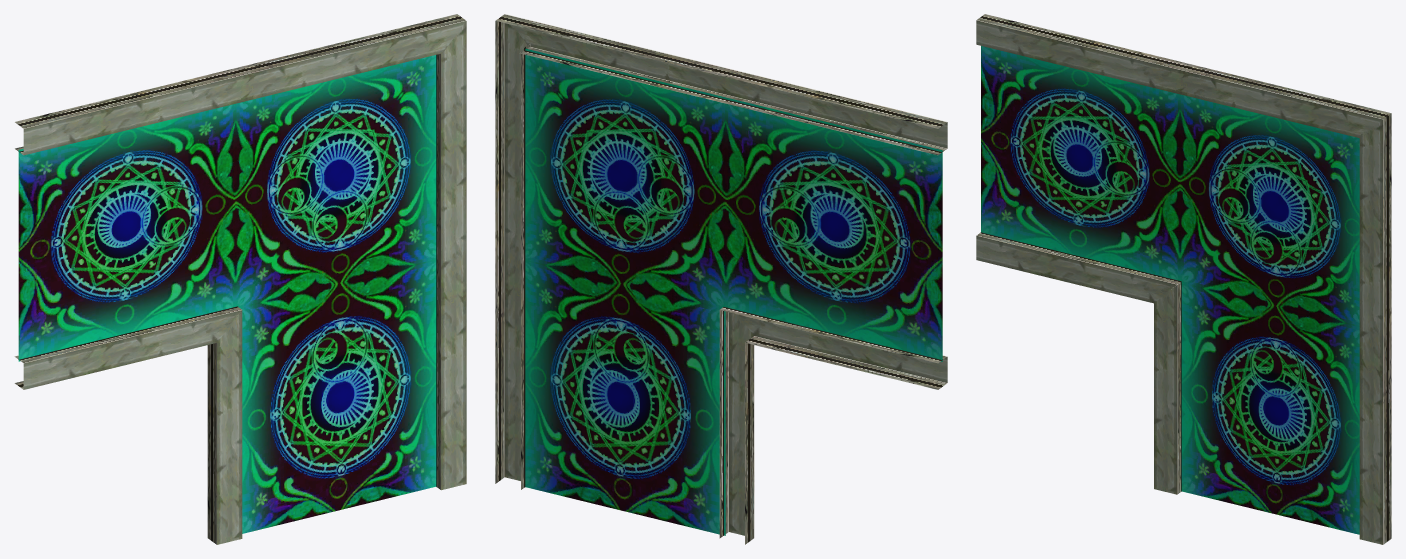
The model's file is juqing_fuben_342_qiao_02.obj.
The picture shows the model from 3 angles, left to right: view 1: azimuth 30°, elevation 25°; view 2: azimuth 150°, elevation 25°; view 3: azimuth 330°, elevation 25°; orthographic projection. The views are drawn at different scales.
Visible parts, largest first — view 1: juqing_fuben_342_qiao_02; view 2: juqing_fuben_342_qiao_02; view 3: juqing_fuben_342_qiao_02.
Boxes of the visible parts, left/top/right/bottom form: juqing_fuben_342_qiao_02: left=14, top=14, right=466, bottom=544; juqing_fuben_342_qiao_02: left=495, top=14, right=947, bottom=544; juqing_fuben_342_qiao_02: left=976, top=14, right=1391, bottom=544.
Bounding box in the file's own units: 227 × 227 × 8.29.
1 material, 1 textured.
